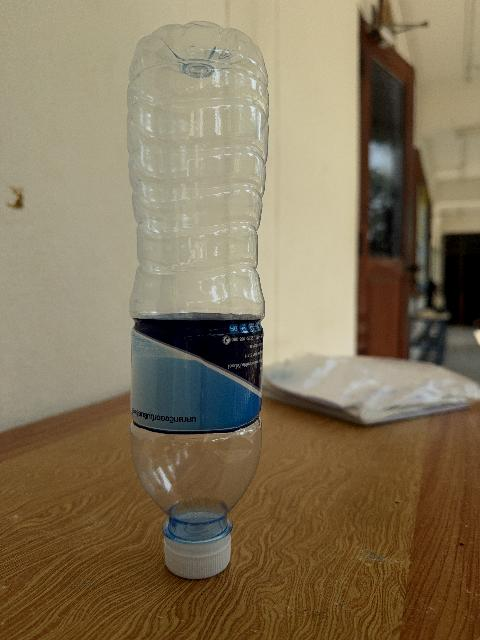bottle: (127, 23, 267, 578)
